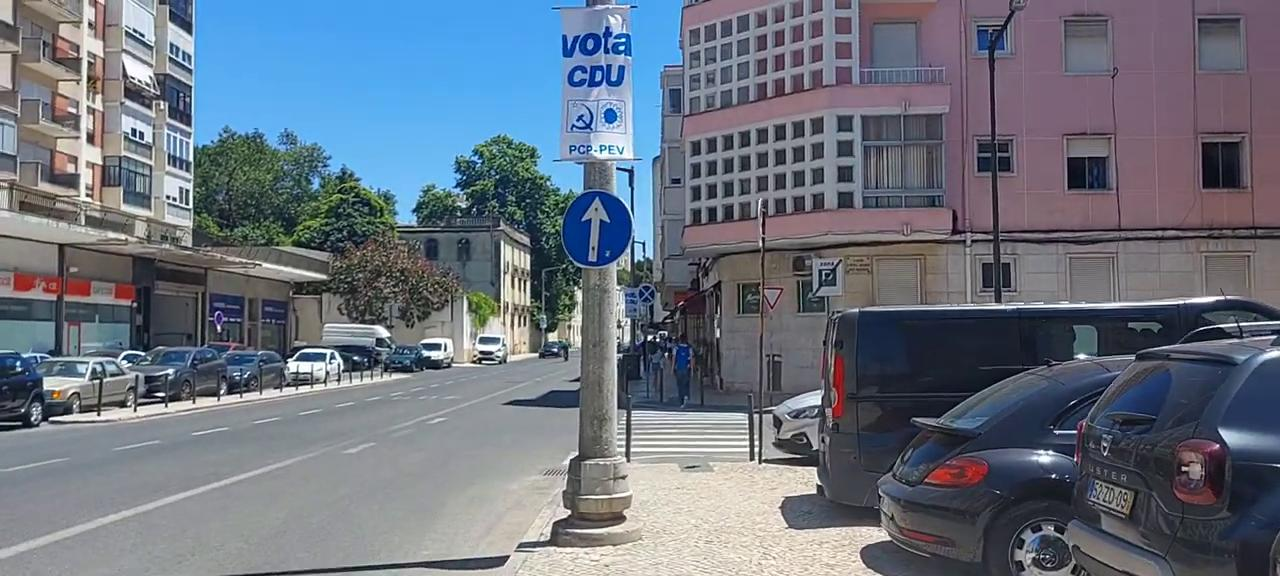sentido obrigatorio: (560, 187, 635, 269)
